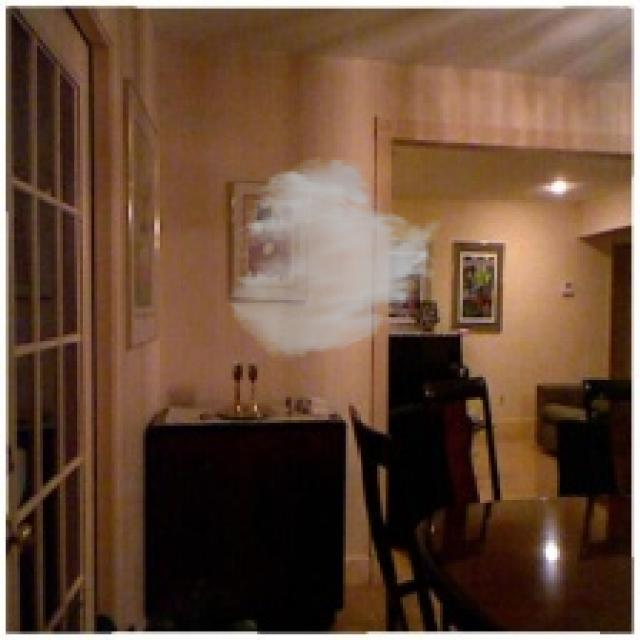smoke: (225, 154, 446, 360)
